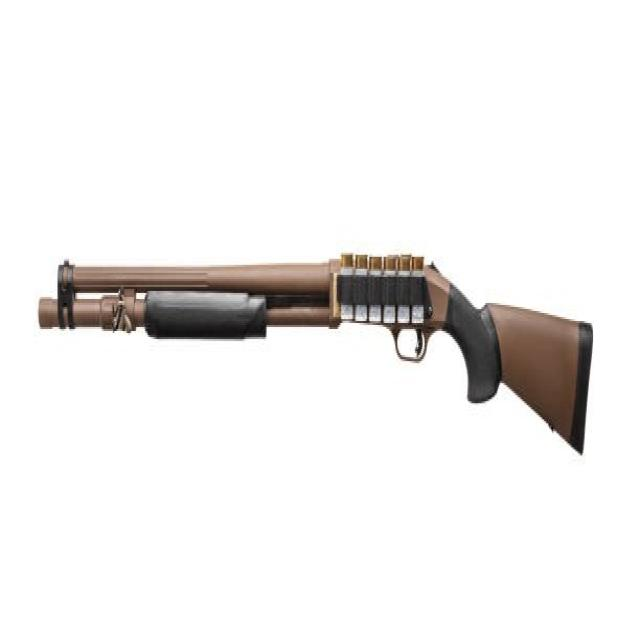rifle: (36, 248, 599, 472)
